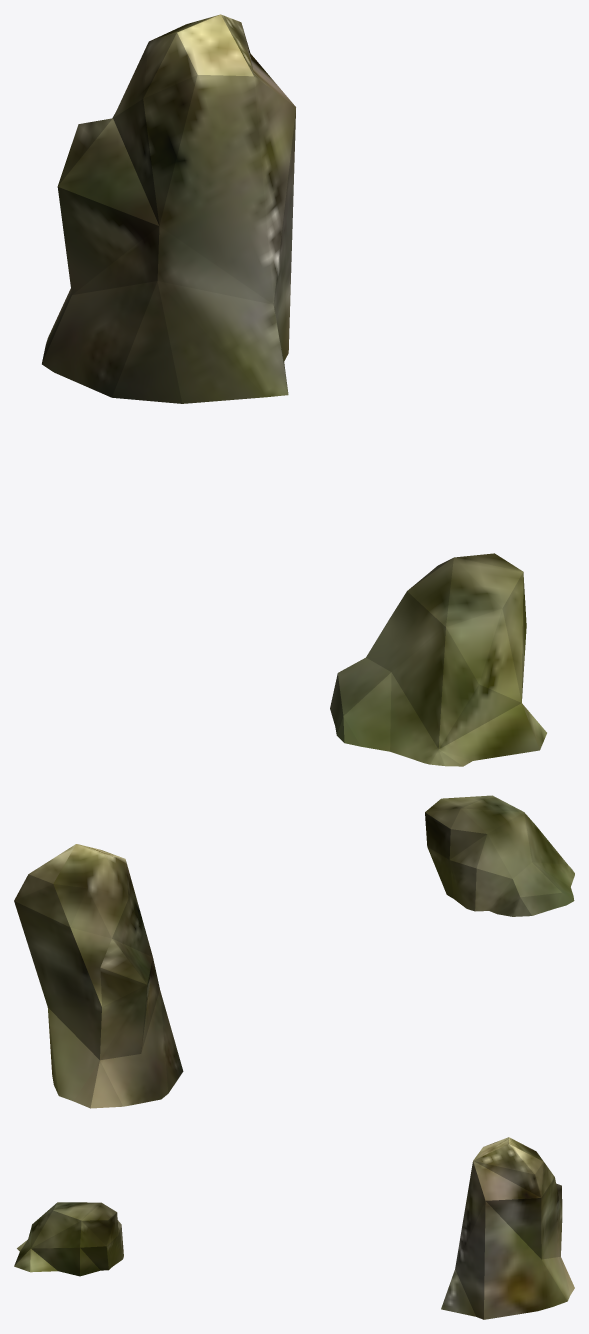
The picture shows the model from 3 angles, top to bottom: view 1: azimuth 30°, elevation 25°; view 2: azimuth 150°, elevation 25°; view 3: azimuth 270°, elevation 25°; orthographic projection. The views are drawn at different scales.
Bounding box in the file's own units: 0.1859 × 0.1559 × 0.4791.
Materials: 1 (1 with a texture image).
